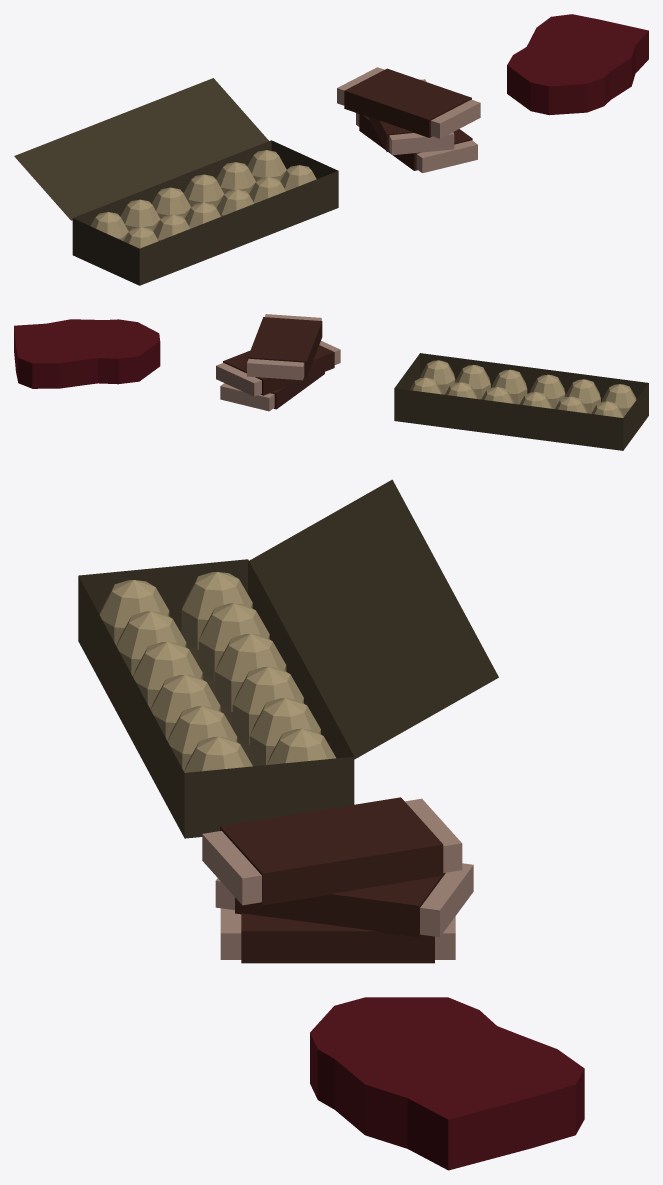
Rendered from food.obj.
The picture shows the model from 3 angles, top to bottom: view 1: azimuth 30°, elevation 25°; view 2: azimuth 150°, elevation 25°; view 3: azimuth 270°, elevation 25°; orthographic projection. The views are drawn at different scales.
Visible parts, largest first — view 1: Plane, Cube, Plane.001, Cube.002, Cube.001, Sphere.004_Sphere.006, Sphere.008_Sphere.010, Sphere.003_Sphere.005, Sphere_Sphere.002, Sphere.011_Sphere.013, Sphere.007_Sphere.009, Sphere.005_Sphere.007 (+5 smaller); view 2: Cube, Plane.001, Cube.002, Cube.001, Sphere.005_Sphere.007, Sphere.002_Sphere.004, Sphere.009_Sphere.011, Sphere.001_Sphere.003, Sphere.010_Sphere.012, Sphere.006_Sphere.008, Sphere.008_Sphere.010, Sphere.003_Sphere.005 (+4 smaller); view 3: Plane, Plane.001, Cube.002, Cube, Cube.001, Sphere.011_Sphere.013, Sphere.007_Sphere.009, Sphere.004_Sphere.006, Sphere.008_Sphere.010, Sphere.003_Sphere.005, Sphere.010_Sphere.012, Sphere.006_Sphere.008 (+5 smaller).
Boxes of the visible parts, x1,y1,x2,y2 form: Plane: [14, 78, 268, 220]; Cube: [72, 140, 338, 285]; Plane.001: [507, 14, 648, 115]; Cube.002: [344, 68, 472, 170]; Cube.001: [337, 67, 480, 173]; Sphere.004_Sphere.006: [183, 174, 224, 207]; Sphere.008_Sphere.010: [120, 199, 160, 231]; Sphere.003_Sphere.005: [216, 162, 255, 193]; Sphere_Sphere.002: [247, 150, 286, 181]; Sphere.011_Sphere.013: [152, 187, 190, 218]; Sphere.007_Sphere.009: [90, 212, 128, 240]; Sphere.005_Sphere.007: [216, 189, 254, 216]; Cube: [394, 353, 648, 450]; Plane.001: [14, 319, 160, 388]; Cube.002: [223, 317, 334, 409]; Cube.001: [216, 314, 340, 411]; Sphere.005_Sphere.007: [492, 369, 527, 404]; Sphere.002_Sphere.004: [456, 365, 490, 399]; Sphere.009_Sphere.011: [566, 379, 600, 413]; Sphere.001_Sphere.003: [420, 360, 455, 394]; Sphere.010_Sphere.012: [530, 374, 565, 408]; Sphere.006_Sphere.008: [602, 384, 636, 416]; Sphere.008_Sphere.010: [555, 396, 587, 413]; Sphere.003_Sphere.005: [445, 382, 477, 398]; Plane: [249, 479, 498, 759]; Plane.001: [310, 997, 584, 1170]; Cube.002: [220, 797, 445, 963]; Cube: [78, 559, 354, 838]; Cube.001: [202, 798, 473, 959]; Sphere.011_Sphere.013: [215, 634, 286, 711]; Sphere.007_Sphere.009: [181, 572, 252, 649]; Sphere.004_Sphere.006: [232, 666, 303, 744]; Sphere.008_Sphere.010: [198, 603, 269, 681]; Sphere.003_Sphere.005: [249, 698, 320, 766]; Sphere.010_Sphere.012: [133, 642, 202, 709]; Sphere.006_Sphere.008: [99, 580, 169, 645].
Bounding box in the file's own units: 15.92 × 1.72 × 6.07.
